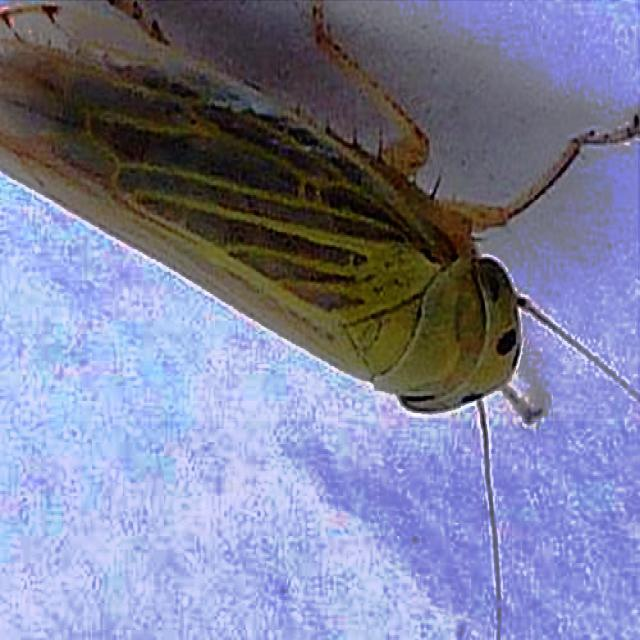green-leafhopper: (0, 2, 638, 421)
